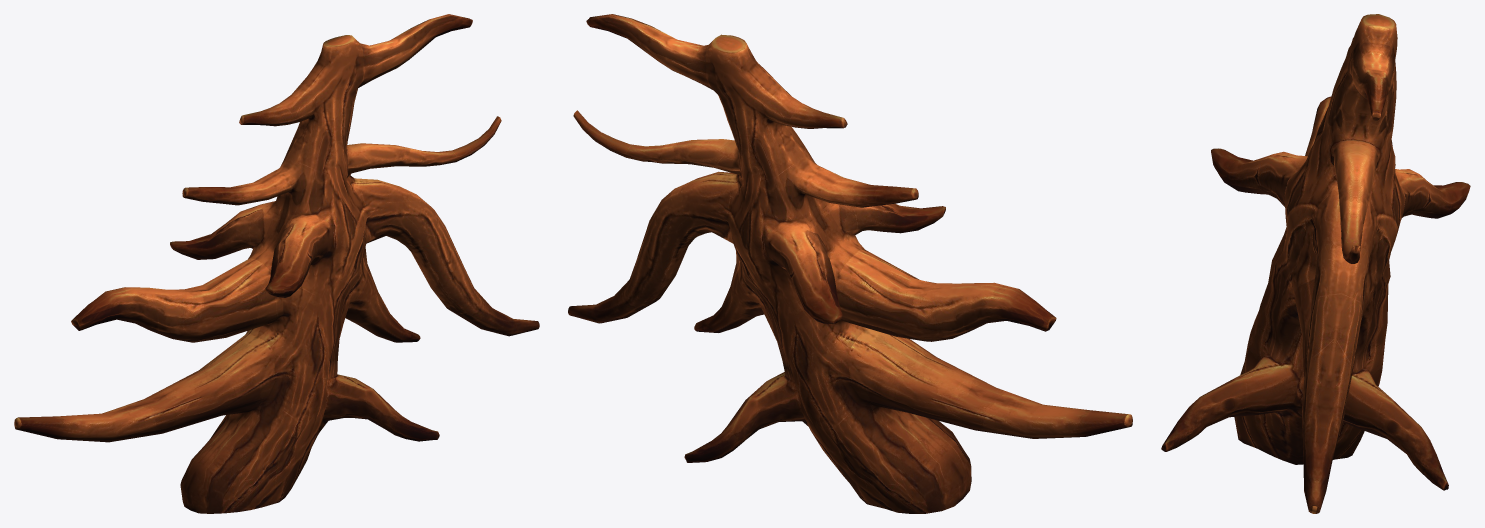
File: arbre_V3.fbx
The picture shows the model from 3 angles, left to right: view 1: azimuth 30°, elevation 25°; view 2: azimuth 150°, elevation 25°; view 3: azimuth 270°, elevation 25°; orthographic projection. The views are drawn at different scales.
Parts seen in each view (by area): view 1: Arbre_V3; view 2: Arbre_V3; view 3: Arbre_V3.
Part boxes in pixels (left/top/right/bottom): Arbre_V3: left=14, top=14, right=539, bottom=513; Arbre_V3: left=568, top=14, right=1132, bottom=513; Arbre_V3: left=1161, top=14, right=1470, bottom=513.
Size of the model in its own units: 434 by 325 by 179.
